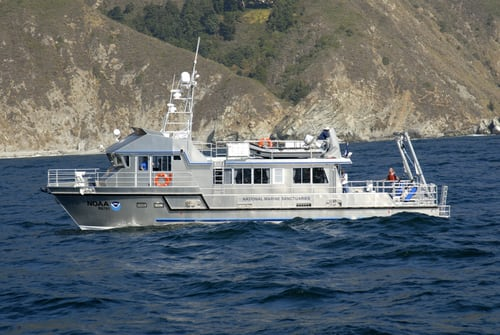yacht: (40, 60, 458, 239)
